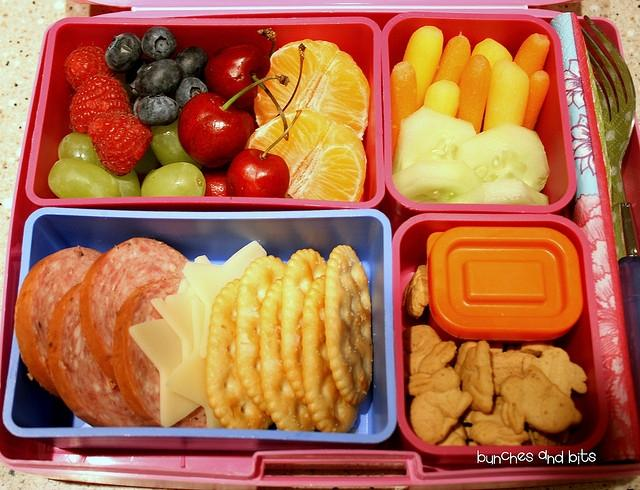blueberry: (135, 59, 182, 98), (104, 32, 143, 74), (137, 92, 180, 128), (173, 46, 209, 86), (141, 26, 177, 61), (125, 59, 154, 97), (175, 78, 208, 108)
carrot: (482, 58, 530, 132), (402, 25, 443, 110), (455, 54, 492, 136), (390, 60, 418, 164), (430, 31, 470, 84), (522, 70, 550, 131), (514, 34, 550, 76), (423, 80, 460, 118), (470, 38, 512, 68)
cherry: (178, 74, 290, 168), (204, 43, 290, 141), (225, 110, 302, 198), (200, 160, 232, 196)
cucumber: (454, 122, 550, 192), (392, 105, 476, 175), (392, 160, 486, 204), (443, 178, 549, 206)
grape: (48, 158, 120, 198), (150, 117, 202, 170), (142, 162, 205, 198), (106, 168, 142, 197), (134, 145, 160, 174)
orange: (254, 39, 370, 140), (244, 108, 367, 202)
